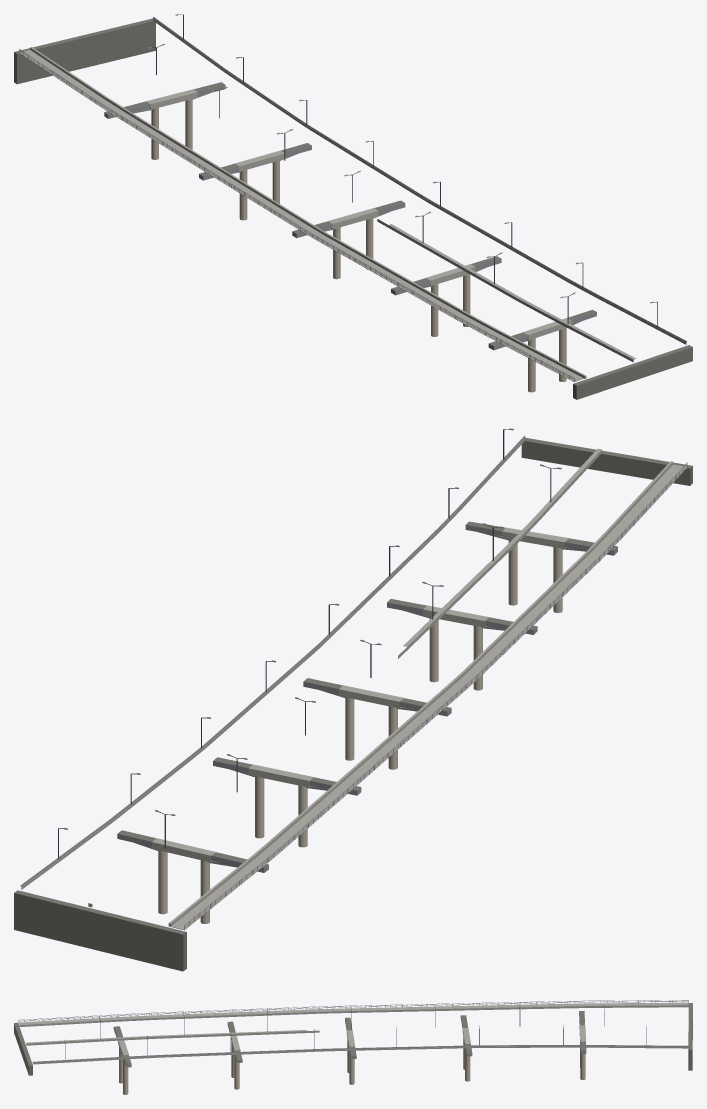
File: br_r6_quesnell_2.gltf
The picture shows the model from 3 angles, top to bottom: view 1: azimuth 30°, elevation 25°; view 2: azimuth 150°, elevation 25°; view 3: azimuth 270°, elevation 25°; orthographic projection. The views are drawn at different scales.
Parts seen in each view (by area): view 1: br_r6_quesnell_2; view 2: br_r6_quesnell_2; view 3: br_r6_quesnell_2.
Boxes of the visible parts, left/top/right/bottom form: br_r6_quesnell_2: left=14, top=14, right=692, bottom=399; br_r6_quesnell_2: left=14, top=428, right=692, bottom=971; br_r6_quesnell_2: left=14, top=1000, right=692, bottom=1094.
Bounding box in the file's own units: 76.06 × 37.08 × 322.
